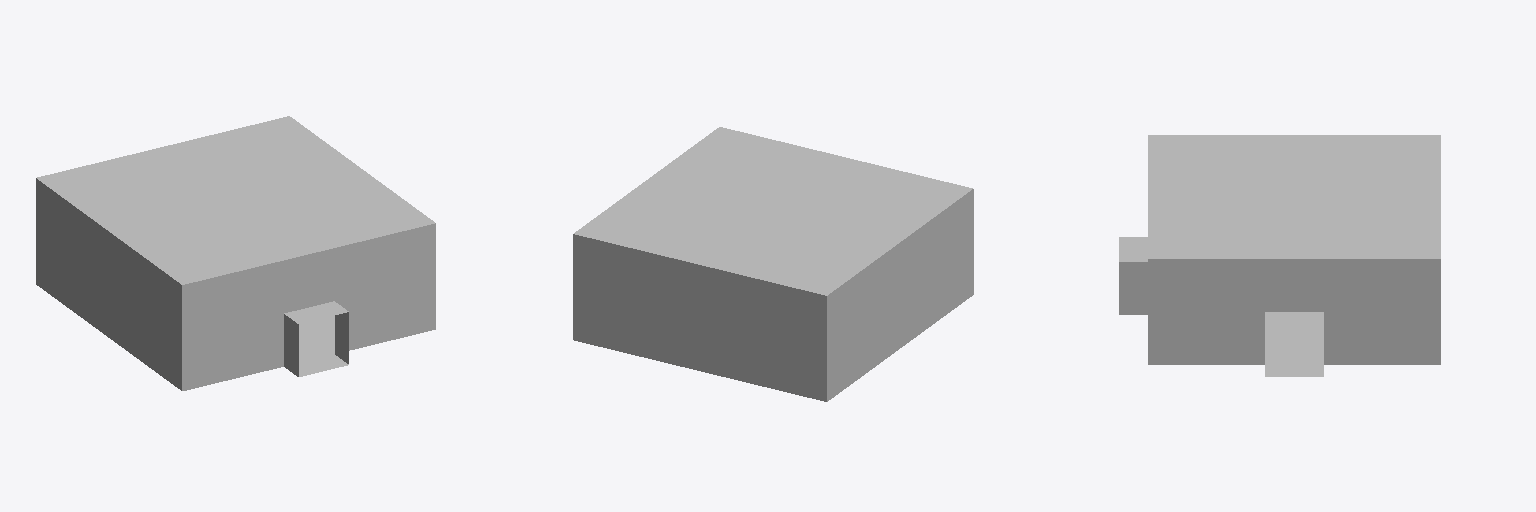
Rendered from Hab2.obj.
3 views of the same model, side by side, from view 1: azimuth 30°, elevation 25°; view 2: azimuth 150°, elevation 25°; view 3: azimuth 270°, elevation 25° (orthographic).
Visible parts, largest first — view 1: Cubo; view 2: Cubo; view 3: Cubo.
Part boxes in pixels (bbox=[...]): Cubo: bbox=[36, 116, 435, 390]; Cubo: bbox=[573, 127, 973, 401]; Cubo: bbox=[1119, 135, 1440, 376].
Size of the model in its own units: 11 by 4 by 11.